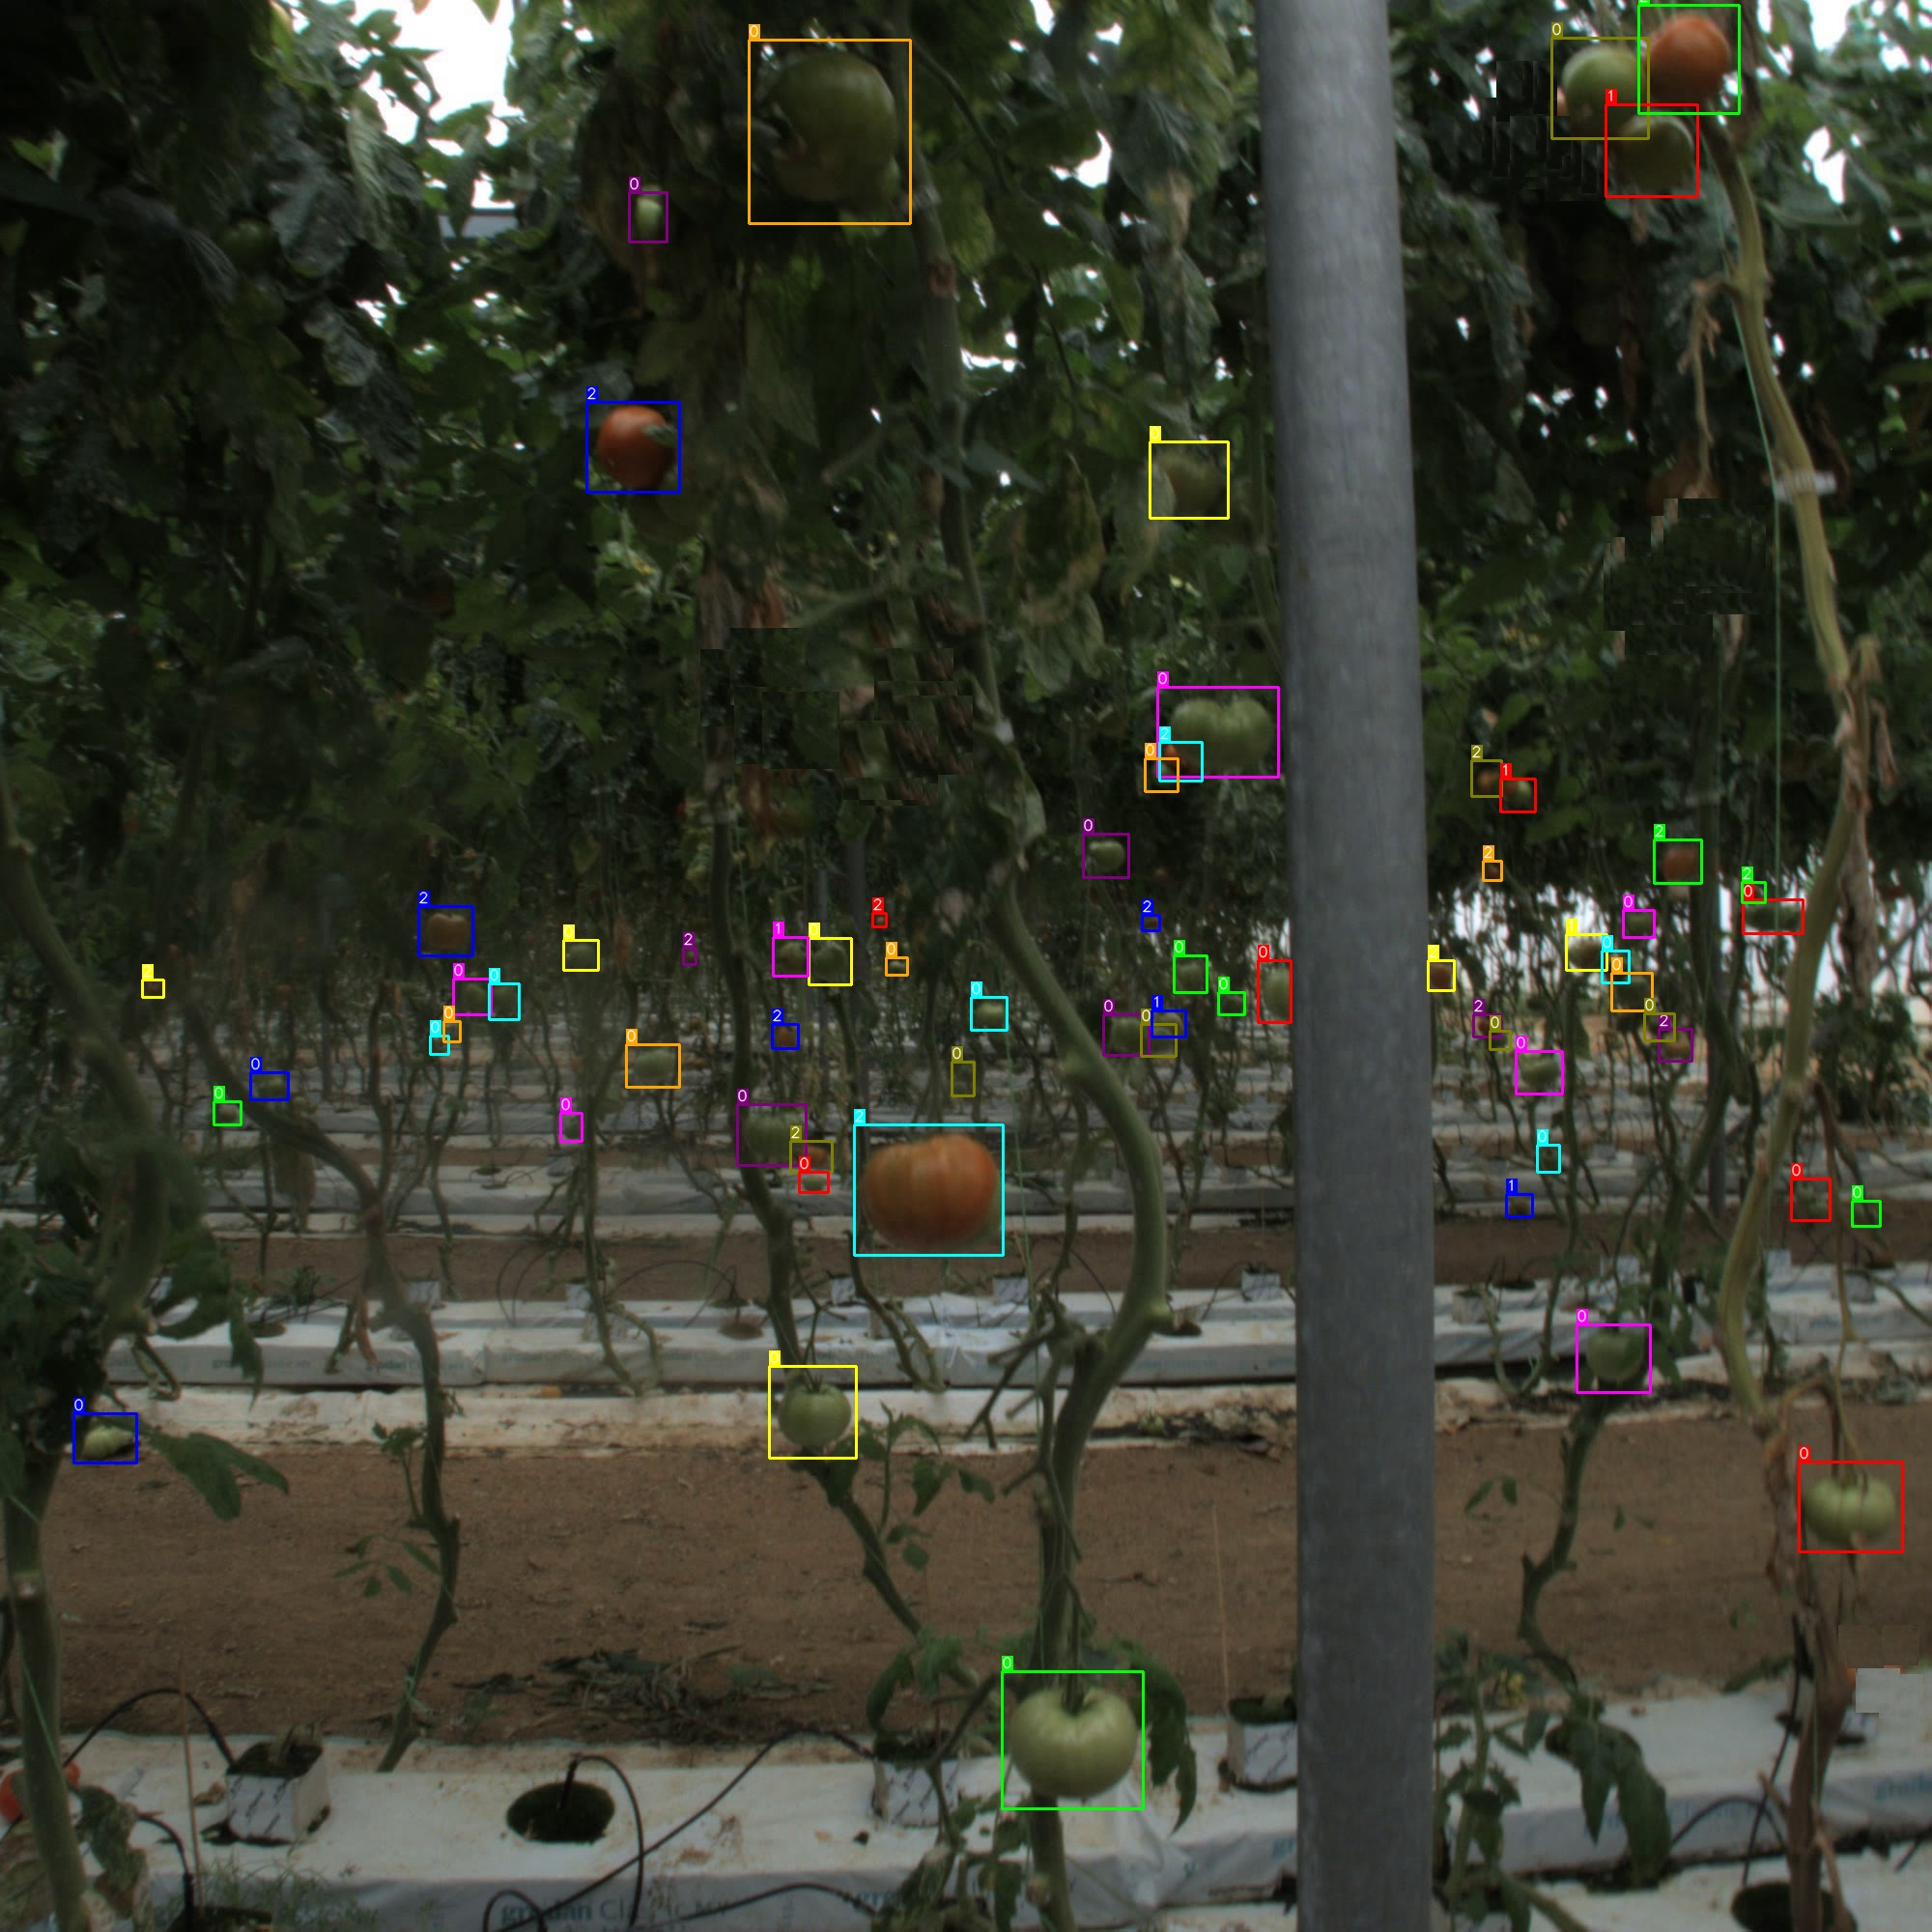MatureStage: (855, 1125, 1003, 1256), (1638, 5, 1739, 113), (586, 402, 679, 492), (418, 906, 472, 957), (1654, 839, 1702, 885), (1159, 741, 1201, 780), (791, 1141, 833, 1173), (1658, 1028, 1691, 1062), (1472, 761, 1500, 796), (1428, 961, 1454, 991), (771, 1024, 800, 1047), (1474, 1014, 1500, 1037), (1741, 881, 1766, 904), (142, 980, 165, 996), (1483, 860, 1500, 879), (1141, 915, 1161, 931), (683, 948, 697, 964), (872, 913, 886, 927)
TurningStage: (1605, 104, 1697, 196), (1566, 934, 1606, 971), (773, 938, 807, 975), (1500, 778, 1536, 812), (1152, 1010, 1185, 1037), (1506, 1194, 1532, 1217)
WhiteStage: (748, 39, 909, 225), (1001, 1672, 1143, 1808), (1157, 686, 1277, 778), (1552, 37, 1647, 140), (1799, 1461, 1904, 1552), (770, 1366, 856, 1458), (1150, 442, 1228, 518), (1576, 1325, 1651, 1392), (738, 1104, 805, 1166), (73, 1414, 138, 1463), (626, 1044, 679, 1088), (809, 938, 853, 985), (1083, 833, 1129, 878), (1743, 899, 1803, 932), (1258, 961, 1290, 1023), (1516, 1051, 1562, 1093), (628, 193, 667, 241), (1104, 1014, 1148, 1054), (1790, 1178, 1831, 1221), (1612, 973, 1652, 1012), (453, 978, 492, 1014), (1173, 955, 1207, 993), (971, 996, 1007, 1030), (1145, 759, 1178, 793), (1141, 1024, 1177, 1056), (249, 1072, 288, 1100), (563, 939, 598, 970), (488, 984, 518, 1019), (1622, 909, 1654, 938), (1601, 950, 1629, 982), (1644, 1014, 1674, 1042), (952, 1062, 975, 1095), (1852, 1201, 1881, 1226), (214, 1100, 241, 1125), (800, 1171, 828, 1192), (561, 1113, 582, 1141), (1537, 1145, 1559, 1173), (1219, 993, 1244, 1016), (430, 1035, 449, 1054), (886, 957, 908, 975), (1490, 1031, 1509, 1049), (444, 1021, 460, 1042)
